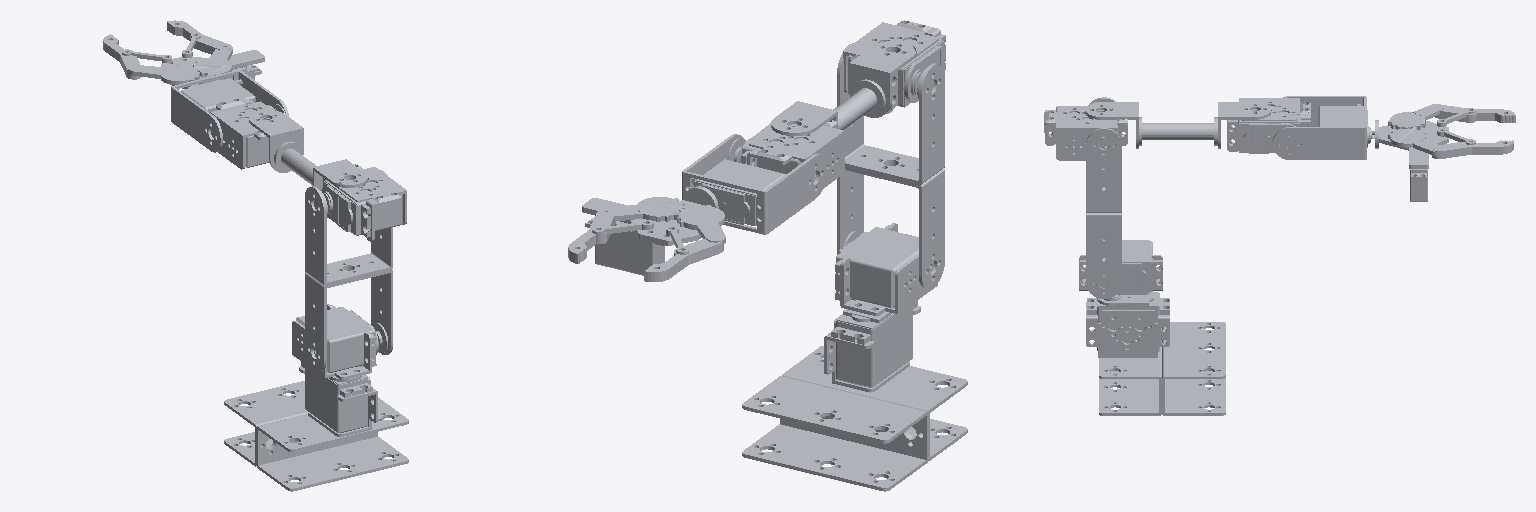
The robot description file, URDF, robot "servo6dof_description":
<?xml version="1.0" ?>
<!-- =================================================================================== -->
<!-- |    This document was autogenerated by xacro from src/servo6dof/servo6dof_description/urdf/servo6dof.urdf.xacro | -->
<!-- |    EDITING THIS FILE BY HAND IS NOT RECOMMENDED                                 | -->
<!-- =================================================================================== -->
<robot name="servo6dof_description">
  <!-- ROS 2 Control -->
  <gazebo>
    <plugin filename="ign_ros2_control-system" name="ign_ros2_control::IgnitionROS2ControlPlugin">
      <parameters>/repo/ros2_ws/install/servo6dof_controller/share/servo6dof_controller/config/servo6dof_controllers.yaml</parameters>
    </plugin>
  </gazebo>
  <ros2_control name="RobotSystem" type="system">
    <hardware>
      <plugin>ign_ros2_control/IgnitionSystem</plugin>
    </hardware>
    <joint name="joint_1">
      <command_interface name="position">
        <param name="min">-1.570795</param>
        <param name="max">1.570795</param>
      </command_interface>
      <state_interface name="position"/>
    </joint>
    <joint name="joint_2">
      <command_interface name="position">
        <param name="min">-1.570795</param>
        <param name="max">1.570795</param>
      </command_interface>
      <state_interface name="position"/>
    </joint>
    <joint name="joint_3">
      <command_interface name="position">
        <param name="min">-1.570795</param>
        <param name="max">1.570795</param>
      </command_interface>
      <state_interface name="position"/>
    </joint>
    <joint name="joint_4">
      <command_interface name="position">
        <param name="min">-1.570795</param>
        <param name="max">1.570795</param>
      </command_interface>
      <state_interface name="position"/>
    </joint>
    <joint name="joint_5">
      <command_interface name="position">
        <param name="min">-1.570795</param>
        <param name="max">1.570795</param>
      </command_interface>
      <state_interface name="position"/>
    </joint>
    <joint name="joint_6">
      <command_interface name="position">
        <param name="min">-0.6981311111111111</param>
        <param name="max">0.5235983333333333</param>
      </command_interface>
      <state_interface name="position"/>
    </joint>
    <joint name="joint_7">
      <param name="mimic">joint_6</param>
      <param name="multiplier">-1</param>
    </joint>
  </ros2_control>
  <link name="world"/>
  <link name="base_link">
    <inertial>
      <mass value="1.0"/>
      <inertia ixx="1.0" ixy="0.0" ixz="0.0" iyy="1.0" iyz="0.0" izz="1.0"/>
    </inertial>
    <visual>
      <origin rpy="0 0 0" xyz="0.25 0.25 0"/>
      <geometry>
        <mesh filename="package://servo6dof_description/meshes/basement.stl" scale="6 6 6"/>
      </geometry>
      <material name="aluminio">
        <color rgba="0.78 0.79 0.82 1.0"/>
      </material>
    </visual>
    <collision>
      <origin rpy="0 0 0" xyz="0.25 0.25 0"/>
      <geometry>
        <mesh filename="package://servo6dof_description/meshes/basement.stl" scale="6 6 6"/>
      </geometry>
    </collision>
  </link>
  <joint name="virtual_joint" type="fixed">
    <parent link="world"/>
    <child link="base_link"/>
    <origin rpy="0 0 0" xyz="0 0 0"/>
  </joint>
  <link name="primeiro_elo">
    <inertial>
      <mass value="0.1"/>
      <inertia ixx="1.0" ixy="0.0" ixz="0.0" iyy="1.0" iyz="0.0" izz="1.0"/>
    </inertial>
    <visual>
      <origin rpy="0 0 0" xyz="0.25 0.57 0"/>
      <geometry>
        <mesh filename="package://servo6dof_description/meshes/manipulator_elo1.stl" scale="6 6 6"/>
      </geometry>
      <material name="aluminio">
        <color rgba="0.78 0.79 0.82 1.0"/>
      </material>
    </visual>
    <collision>
      <origin rpy="0 0 0" xyz="0.25 0.57 0"/>
      <geometry>
        <mesh filename="package://servo6dof_description/meshes/manipulator_elo1.stl" scale="6 6 6"/>
      </geometry>
    </collision>
  </link>
  <joint name="joint_1" type="revolute">
    <parent link="base_link"/>
    <child link="primeiro_elo"/>
    <axis xyz="0 0 1"/>
    <origin rpy="0 0 0" xyz="0 -0.23 -0.01"/>
    <limit effort="30.0" lower="-1.570795" upper="1.570795" velocity="10.0"/>
  </joint>
  <link name="segundo_elo">
    <inertial>
      <mass value="0.1"/>
      <inertia ixx="1.0" ixy="0.0" ixz="0.0" iyy="1.0" iyz="0.0" izz="1.0"/>
    </inertial>
    <visual>
      <origin rpy="0 0 0" xyz="0.3 0.6 -0.55"/>
      <geometry>
        <mesh filename="package://servo6dof_description/meshes/manipulator_elo2.stl" scale="6 6 6"/>
      </geometry>
      <material name="aluminio">
        <color rgba="0.78 0.79 0.82 1.0"/>
      </material>
    </visual>
    <collision>
      <origin rpy="0 0 0" xyz="0.3 0.6 -0.55"/>
      <geometry>
        <mesh filename="package://servo6dof_description/meshes/manipulator_elo2.stl" scale="6 6 6"/>
      </geometry>
    </collision>
  </link>
  <joint name="joint_2" type="revolute">
    <parent link="primeiro_elo"/>
    <child link="segundo_elo"/>
    <axis xyz="1 0 0"/>
    <origin rpy="0 0 0" xyz="-0.05 -0.03 0.57"/>
    <limit effort="30.0" lower="-1.570795" upper="1.570795" velocity="10.0"/>
  </joint>
  <link name="terceiro_elo">
    <inertial>
      <mass value="0.1"/>
      <inertia ixx="1.0" ixy="0.0" ixz="0.0" iyy="1.0" iyz="0.0" izz="1.0"/>
    </inertial>
    <visual>
      <origin rpy="0 0 0" xyz="0.25 0.6 -1.18"/>
      <geometry>
        <mesh filename="package://servo6dof_description/meshes/manipulator_elo3.stl" scale="6 6 6"/>
      </geometry>
      <material name="aluminio">
        <color rgba="0.78 0.79 0.82 1.0"/>
      </material>
    </visual>
    <collision>
      <origin rpy="0 0 0" xyz="0.25 0.6 -1.18"/>
      <geometry>
        <mesh filename="package://servo6dof_description/meshes/manipulator_elo3.stl" scale="6 6 6"/>
      </geometry>
    </collision>
  </link>
  <joint name="joint_3" type="revolute">
    <parent link="segundo_elo"/>
    <child link="terceiro_elo"/>
    <axis xyz="1 0 0"/>
    <origin rpy="0 0 0" xyz="0.06 0 0.63"/>
    <limit effort="30.0" lower="-1.570795" upper="1.570795" velocity="10.0"/>
  </joint>
  <link name="quarto_elo">
    <inertial>
      <mass value="0.1"/>
      <inertia ixx="1.0" ixy="0.0" ixz="0.0" iyy="1.0" iyz="0.0" izz="1.0"/>
    </inertial>
    <visual>
      <origin rpy="0 0 0" xyz="0.25 -0.187 -1.18"/>
      <geometry>
        <mesh filename="package://servo6dof_description/meshes/manipulator_elo4.stl" scale="6 6 6"/>
      </geometry>
      <material name="aluminio">
        <color rgba="0.78 0.79 0.82 1.0"/>
      </material>
    </visual>
    <collision>
      <origin rpy="0 0 0" xyz="0.25 -0.187 -1.18"/>
      <geometry>
        <mesh filename="package://servo6dof_description/meshes/manipulator_elo4.stl" scale="6 6 6"/>
      </geometry>
    </collision>
  </link>
  <joint name="joint_4" type="revolute">
    <parent link="terceiro_elo"/>
    <child link="quarto_elo"/>
    <axis xyz="1 0 0"/>
    <origin rpy="0 0 0" xyz="0 0.78 0"/>
    <limit effort="30.0" lower="-1.570795" upper="1.570795" velocity="10.0"/>
  </joint>
  <link name="base_garra">
    <inertial>
      <mass value="0.05"/>
      <inertia ixx="1.0" ixy="0.0" ixz="0.0" iyy="1.0" iyz="0.0" izz="1.0"/>
    </inertial>
    <visual>
      <origin rpy="0 0 1.570795" xyz="0 0 0"/>
      <geometry>
        <mesh filename="package://servo6dof_description/meshes/base_garra.stl" scale="6 6 6"/>
      </geometry>
      <material name="aluminio">
        <color rgba="0.78 0.79 0.82 1.0"/>
      </material>
    </visual>
    <collision>
      <origin rpy="0 0 1.570795" xyz="0 0 0"/>
      <geometry>
        <mesh filename="package://servo6dof_description/meshes/base_garra.stl" scale="6 6 6"/>
      </geometry>
    </collision>
  </link>
  <joint name="joint_5" type="revolute">
    <parent link="quarto_elo"/>
    <child link="base_garra"/>
    <axis xyz="0 1 0"/>
    <origin rpy="0 0 0" xyz="0.02 0.36 0"/>
    <limit effort="30.0" lower="-1.570795" upper="1.570795" velocity="10.0"/>
  </joint>
  <link name="garra_elo1">
    <inertial>
      <mass value="0.01"/>
      <inertia ixx="1.0" ixy="0.0" ixz="0.0" iyy="1.0" iyz="0.0" izz="1.0"/>
    </inertial>
    <visual>
      <origin rpy="0 3.14159 -1.570795" xyz="0.07 -0.15 0.05"/>
      <geometry>
        <mesh filename="package://servo6dof_description/meshes/garra_elo1.stl" scale="6 6 6"/>
      </geometry>
      <material name="aluminio">
        <color rgba="0.78 0.79 0.82 1.0"/>
      </material>
    </visual>
    <collision>
      <origin rpy="0 3.14159 -1.570795" xyz="0.07 -0.15 0.05"/>
      <geometry>
        <mesh filename="package://servo6dof_description/meshes/garra_elo1.stl" scale="6 6 6"/>
      </geometry>
    </collision>
  </link>
  <joint name="joint_6" type="revolute">
    <parent link="base_garra"/>
    <child link="garra_elo1"/>
    <axis xyz="0 0 1"/>
    <origin rpy="0 0 0" xyz="-0.072 0.12 0.01"/>
    <limit effort="30.0" lower="-0.6981311111111111" upper="0.5235983333333333" velocity="10.0"/>
  </joint>
  <link name="garra_elo2a">
    <inertial>
      <mass value="0.01"/>
      <inertia ixx="1.0" ixy="0.0" ixz="0.0" iyy="1.0" iyz="0.0" izz="1.0"/>
    </inertial>
    <visual>
      <origin rpy="0 0 0" xyz="-0.403 0.133 0"/>
      <geometry>
        <mesh filename="package://servo6dof_description/meshes/garra_elo2.stl" scale="6 6 6"/>
      </geometry>
      <material name="aluminio">
        <color rgba="0.78 0.79 0.82 1.0"/>
      </material>
    </visual>
    <collision>
      <origin rpy="0 0 0" xyz="-0.403 0.133 0"/>
      <geometry>
        <mesh filename="package://servo6dof_description/meshes/garra_elo2.stl" scale="6 6 6"/>
      </geometry>
    </collision>
  </link>
  <joint name="joint_garra_1" type="revolute">
    <parent link="base_garra"/>
    <child link="garra_elo2a"/>
    <axis xyz="0 0 1"/>
    <origin rpy="0 0 0" xyz="-0.05 0.27 0.01"/>
    <mimic joint="joint_6" multiplier="1" offset="-0.2"/>
    <limit effort="30.0" lower="-1.570795" upper="1.570795" velocity="10.0"/>
  </joint>
  <link name="garra_elo3a">
    <inertial>
      <mass value="0.01"/>
      <inertia ixx="1.0" ixy="0.0" ixz="0.0" iyy="1.0" iyz="0.0" izz="1.0"/>
    </inertial>
    <visual>
      <origin rpy="0 3.14159 0" xyz="0.28 0.205 0"/>
      <geometry>
        <mesh filename="package://servo6dof_description/meshes/garra_pinca.stl" scale="6 6 6"/>
      </geometry>
      <material name="aluminio">
        <color rgba="0.78 0.79 0.82 1.0"/>
      </material>
    </visual>
    <collision>
      <origin rpy="0 3.14159 0" xyz="0.28 0.205 0"/>
      <geometry>
        <mesh filename="package://servo6dof_description/meshes/garra_pinca.stl" scale="6 6 6"/>
      </geometry>
    </collision>
  </link>
  <joint name="joint_pinca_a" type="revolute">
    <parent link="garra_elo1"/>
    <child link="garra_elo3a"/>
    <axis xyz="0 0 1"/>
    <origin rpy="0 0 -1.570795" xyz="-0.13 0.13 0"/>
    <mimic joint="joint_6" multiplier="-1" offset="0.2"/>
    <limit effort="30.0" velocity="10.0"/>
  </joint>
  <link name="garra_elo2">
    <inertial>
      <mass value="0.01"/>
      <inertia ixx="1.0" ixy="0.0" ixz="0.0" iyy="1.0" iyz="0.0" izz="1.0"/>
    </inertial>
    <visual>
      <origin rpy="0 0 1.570795" xyz="-0.07 -0.15 -0.03"/>
      <geometry>
        <mesh filename="package://servo6dof_description/meshes/garra_elo1.stl" scale="6 6 6"/>
      </geometry>
      <material name="aluminio">
        <color rgba="0.78 0.79 0.82 1.0"/>
      </material>
    </visual>
    <collision>
      <origin rpy="0 0 1.570795" xyz="-0.07 -0.15 -0.03"/>
      <geometry>
        <mesh filename="package://servo6dof_description/meshes/garra_elo1.stl" scale="6 6 6"/>
      </geometry>
    </collision>
  </link>
  <joint name="joint_7" type="revolute">
    <parent link="base_garra"/>
    <child link="garra_elo2"/>
    <axis xyz="0 0 1"/>
    <origin rpy="0 0 0" xyz="+0.072 0.12 0.01"/>
    <mimic joint="joint_6" multiplier="-1" offset="0"/>
    <limit effort="30.0" lower="-0.5235983333333333" upper="0.5235983333333333" velocity="10.0"/>
  </joint>
  <link name="garra_elo2b">
    <inertial>
      <mass value="0.01"/>
      <inertia ixx="1.0" ixy="0.0" ixz="0.0" iyy="1.0" iyz="0.0" izz="1.0"/>
    </inertial>
    <visual>
      <origin rpy="0 0 3.14159" xyz="0.273 -0.036 0"/>
      <geometry>
        <mesh filename="package://servo6dof_description/meshes/garra_elo2.stl" scale="6 6 6"/>
      </geometry>
      <material name="aluminio">
        <color rgba="0.78 0.79 0.82 1.0"/>
      </material>
    </visual>
    <collision>
      <origin rpy="0 0 3.14159" xyz="0.273 -0.036 0"/>
      <geometry>
        <mesh filename="package://servo6dof_description/meshes/garra_elo2.stl" scale="6 6 6"/>
      </geometry>
    </collision>
  </link>
  <joint name="joint_garra_3" type="revolute">
    <parent link="base_garra"/>
    <child link="garra_elo2b"/>
    <axis xyz="0 0 1"/>
    <origin rpy="0 0 0" xyz="+0.04 0.27 0.01"/>
    <mimic joint="joint_6" multiplier="-1" offset="-1.6708"/>
    <limit effort="30.0" lower="-1.570795" upper="1.570795" velocity="10.0"/>
  </joint>
  <link name="garra_elo3b">
    <inertial>
      <mass value="0.01"/>
      <inertia ixx="1.0" ixy="0.0" ixz="0.0" iyy="1.0" iyz="0.0" izz="1.0"/>
    </inertial>
    <visual>
      <origin rpy="0 0 0" xyz="-0.285 0.205 0"/>
      <geometry>
        <mesh filename="package://servo6dof_description/meshes/garra_pinca.stl" scale="6 6 6"/>
      </geometry>
      <material name="aluminio">
        <color rgba="0.78 0.79 0.82 1.0"/>
      </material>
    </visual>
    <collision>
      <origin rpy="0 0 0" xyz="-0.285 0.205 0"/>
      <geometry>
        <mesh filename="package://servo6dof_description/meshes/garra_pinca.stl" scale="6 6 6"/>
      </geometry>
    </collision>
  </link>
  <joint name="joint_pinca_b" type="revolute">
    <parent link="garra_elo2"/>
    <child link="garra_elo3b"/>
    <axis xyz="0 0 1"/>
    <origin rpy="0 0 1.570795" xyz="0.13 0.13 0"/>
    <mimic joint="joint_6" multiplier="1" offset="-0.2"/>
    <limit effort="30.0" velocity="10.0"/>
  </joint>
</robot>

--- Render facts (derived) ---
3 views of the same robot in one strip: view 1: azimuth 30°, elevation 25°; view 2: azimuth 150°, elevation 25°; view 3: azimuth 270°, elevation 25° (orthographic).
Robot: servo6dof_description — 13 links, 12 joints (11 revolute, 1 fixed); root link world; default pose: all joints at 0.
Visible links, largest first — view 1: base_link, terceiro_elo, segundo_elo, quarto_elo, primeiro_elo, base_garra, garra_elo1, garra_elo3b, garra_elo2, garra_elo3a; view 2: base_link, terceiro_elo, segundo_elo, quarto_elo, primeiro_elo, base_garra, garra_elo3a, garra_elo1, garra_elo2, garra_elo3b; view 3: base_link, terceiro_elo, segundo_elo, quarto_elo, primeiro_elo, base_garra, garra_elo3b, garra_elo3a, garra_elo1, garra_elo2.
Boxes of the visible links, <box> form: base_link: <box>224,362,408,491</box>; terceiro_elo: <box>210,98,406,241</box>; segundo_elo: <box>305,170,392,371</box>; quarto_elo: <box>171,70,288,152</box>; primeiro_elo: <box>292,304,387,379</box>; base_garra: <box>161,50,264,88</box>; garra_elo1: <box>128,65,199,84</box>; garra_elo3b: <box>167,20,231,54</box>; garra_elo2: <box>193,47,232,77</box>; garra_elo3a: <box>103,34,140,79</box>; base_link: <box>742,301,967,491</box>; terceiro_elo: <box>728,20,945,188</box>; segundo_elo: <box>837,43,944,289</box>; quarto_elo: <box>682,134,826,234</box>; primeiro_elo: <box>835,223,937,315</box>; base_garra: <box>582,186,718,275</box>; garra_elo3a: <box>644,238,723,281</box>; garra_elo1: <box>676,204,725,243</box>; garra_elo2: <box>604,197,685,221</box>; garra_elo3b: <box>568,209,615,263</box>; base_link: <box>1086,292,1225,415</box>; terceiro_elo: <box>1044,98,1310,160</box>; segundo_elo: <box>1086,97,1121,298</box>; quarto_elo: <box>1273,96,1374,159</box>; primeiro_elo: <box>1079,240,1162,294</box>; base_garra: <box>1375,120,1448,201</box>; garra_elo3b: <box>1432,140,1513,158</box>; garra_elo3a: <box>1435,105,1515,122</box>; garra_elo1: <box>1388,104,1443,129</box>; garra_elo2: <box>1388,128,1439,155</box>.
Size in the robot's own frame: 0.638 by 1.96 by 1.29 metres.
Meshes: 9 distinct files referenced, 12 mesh visuals loaded (9 binary STL).
